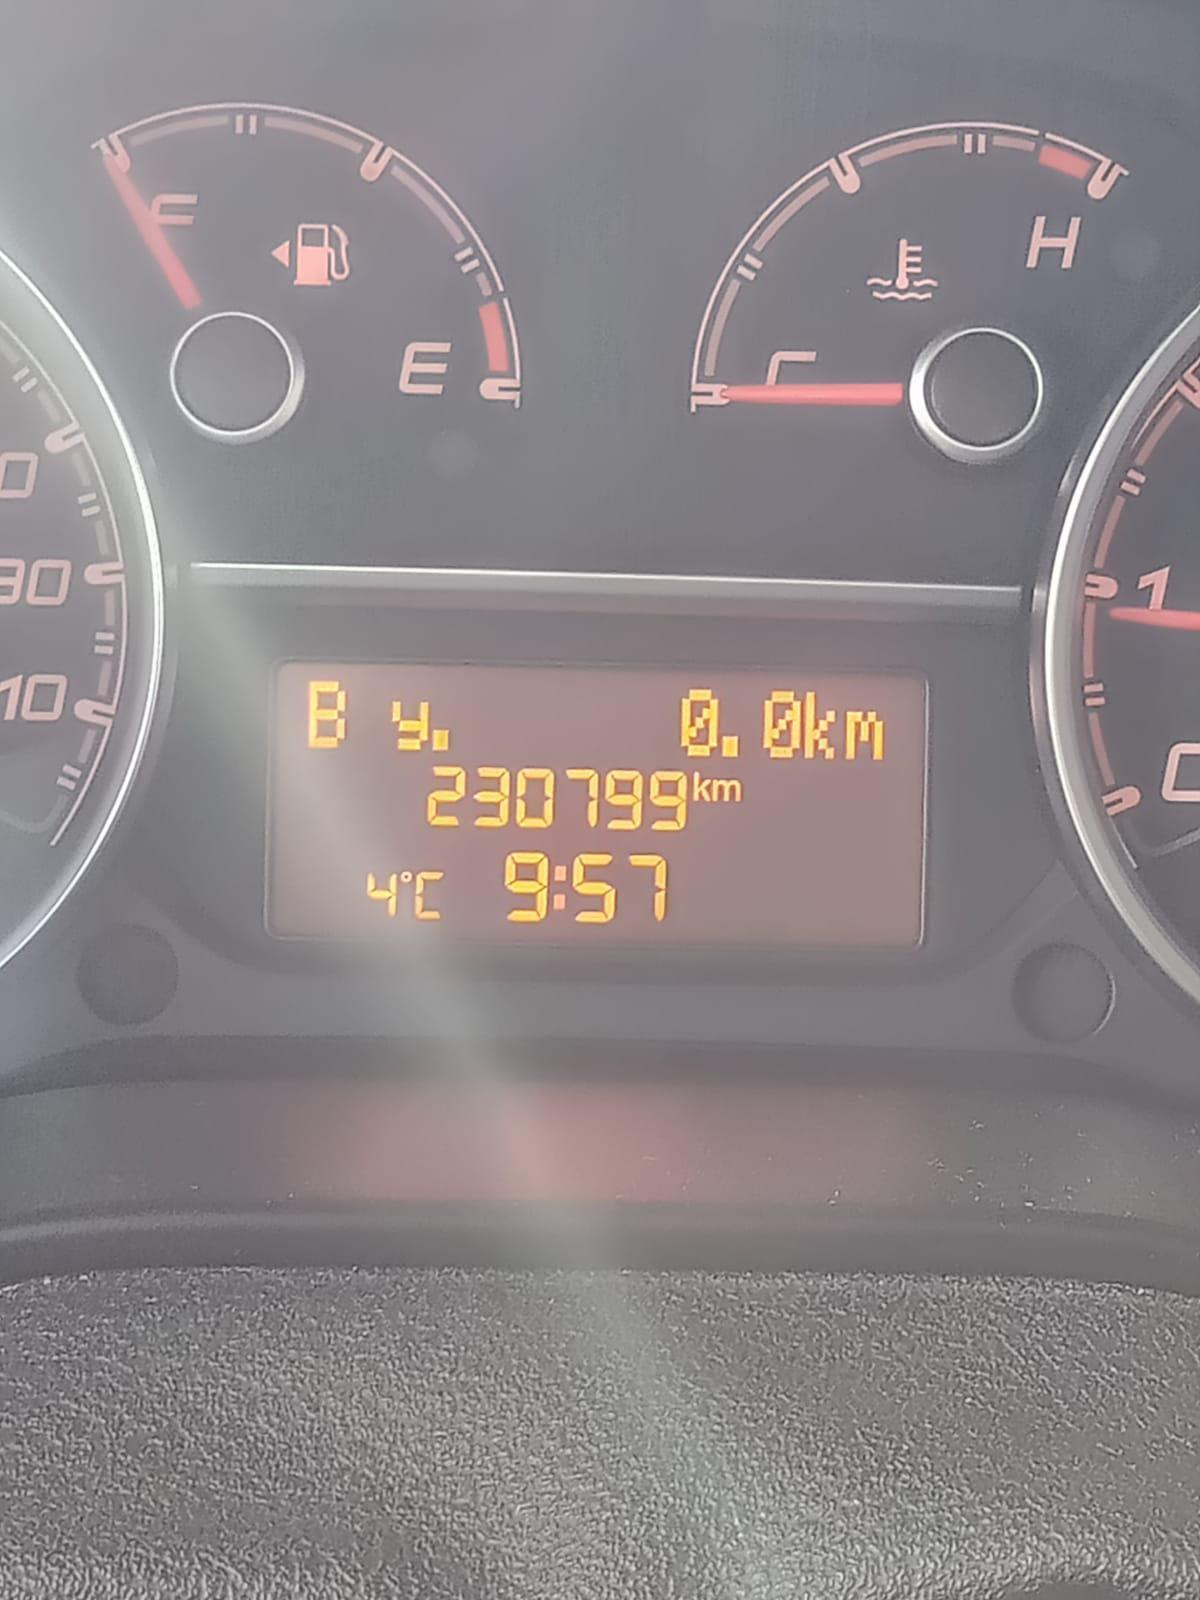,: (430, 727, 451, 753), (718, 733, 740, 758)
0: (677, 685, 720, 758), (761, 687, 802, 760), (514, 765, 557, 830)
2: (425, 763, 468, 826)
3: (471, 763, 511, 829)
4: (363, 869, 400, 918)
5: (570, 852, 616, 923)
7: (626, 852, 669, 923), (563, 766, 600, 829)
9: (503, 849, 548, 923), (647, 769, 688, 833), (603, 769, 644, 830)
X: (305, 679, 347, 750), (802, 689, 838, 761), (843, 707, 886, 762), (389, 695, 430, 751), (413, 869, 444, 920), (551, 863, 568, 912), (712, 777, 744, 804), (691, 770, 711, 803)
odometer: (255, 650, 932, 966)
